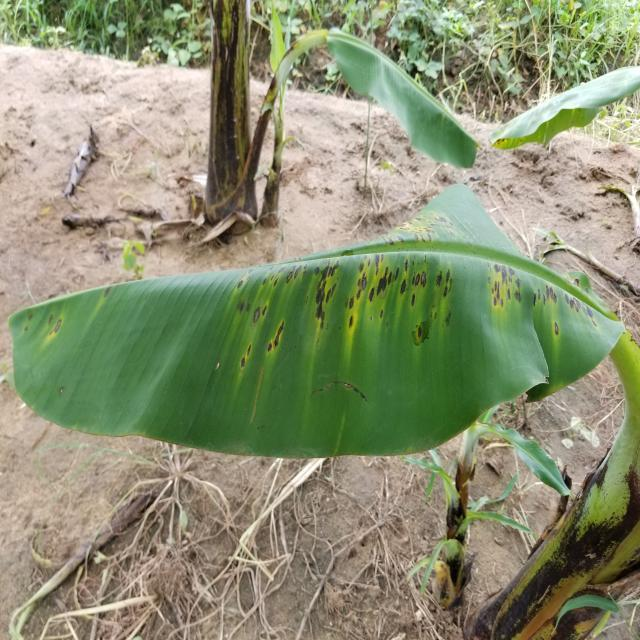Early_rust: (0, 260, 99, 375)
